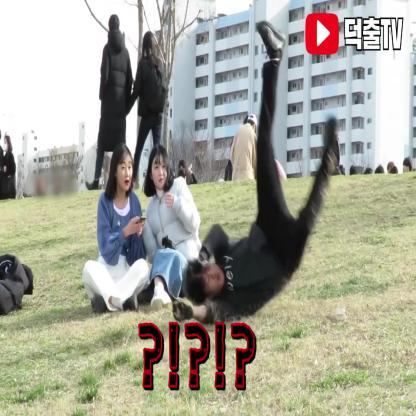Fall_Down: (171, 16, 338, 326)
